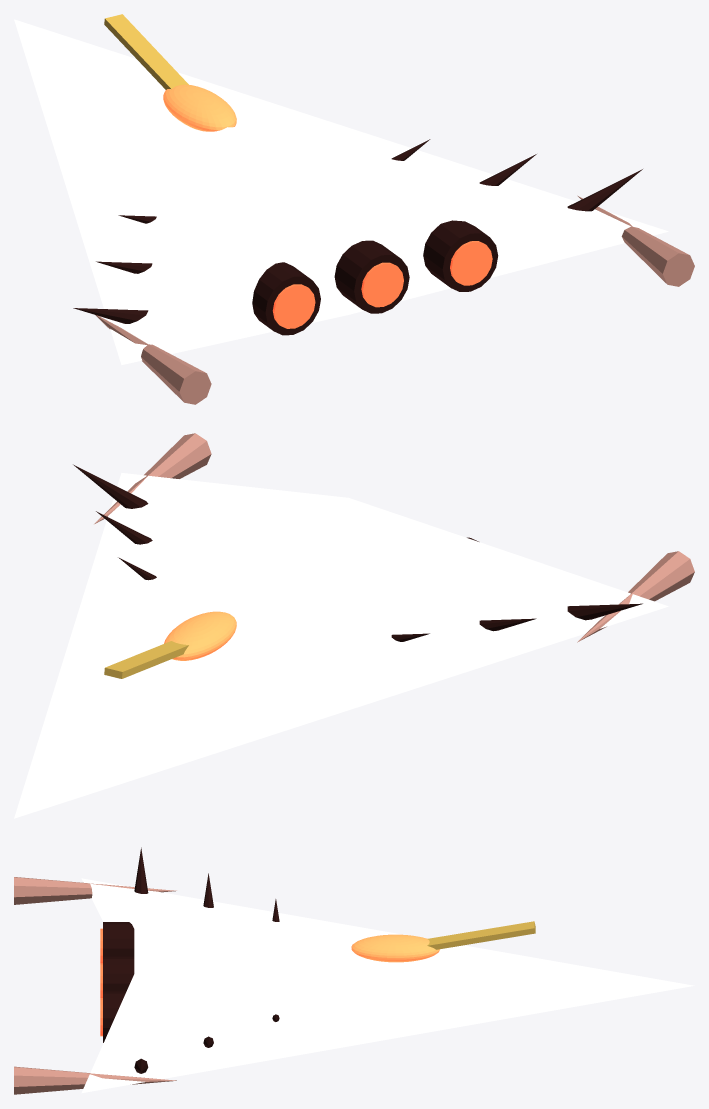
The model's file is ashkari_cruiser.glb.
3 views of the same model, one above another, from view 1: azimuth 30°, elevation 25°; view 2: azimuth 150°, elevation 25°; view 3: azimuth 270°, elevation 25° (orthographic). The views are drawn at different scales.
Visible parts, largest first — view 1: ashkari_cruiser; view 2: ashkari_cruiser; view 3: ashkari_cruiser.
Boxes of the visible parts, x1=… form: ashkari_cruiser: x1=14, y1=14, x2=694, y2=404; ashkari_cruiser: x1=14, y1=433, x2=694, y2=818; ashkari_cruiser: x1=14, y1=847, x2=694, y2=1094.
Bounding box in the file's own units: 7.79 × 1.65 × 10.
